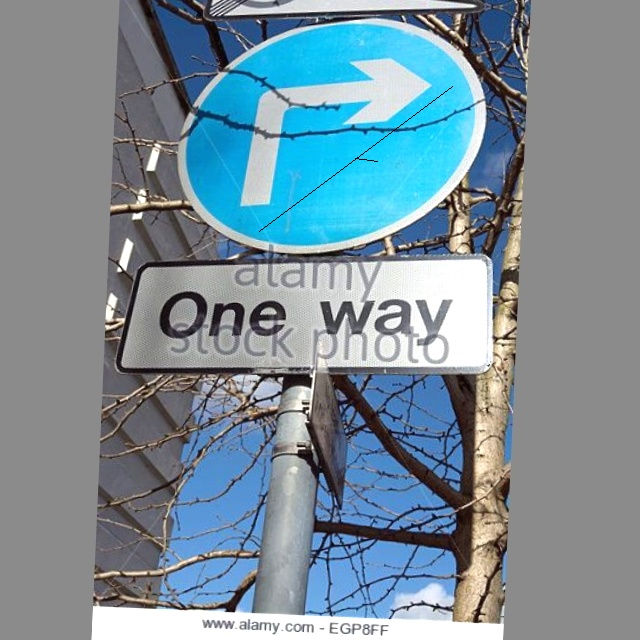Compulsory_Turn_Right_Ahead: (174, 11, 486, 251)
